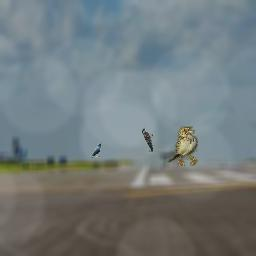Crow: (91, 143, 102, 158)
Sparrow: (166, 126, 198, 166)
Woodpecker: (142, 125, 153, 152)
